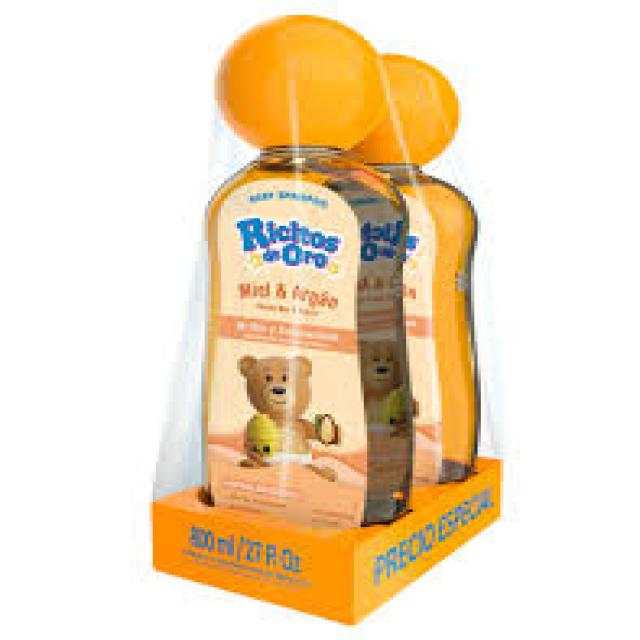Botella: (143, 0, 413, 535)
